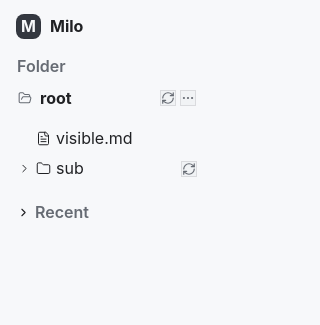
it: folder expansion and request lifetimes › loads only an expanded directory, retries locally and pages without replacing existing files
Click the button with class "file-sidebar__directory-toggle" at (104, 169), box [10, 154, 199, 184]
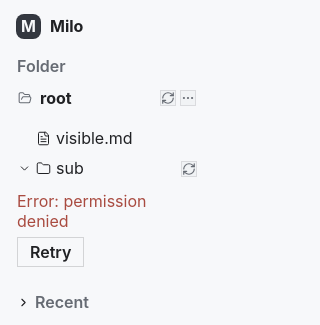
Check: the button "visible.md" is shown, box [10, 124, 199, 153]
Check: the message shows "permission denied", box [17, 191, 146, 231]
Click the button "Retry" at (51, 252), box [17, 237, 84, 267]
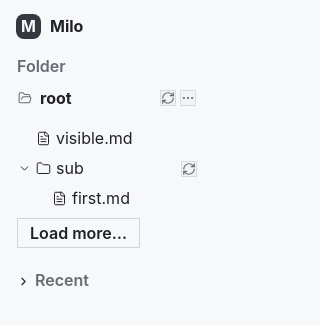
Check: the button "first.md" is shown, box [10, 184, 199, 213]
Click the button "Load more…" at (79, 233), box [17, 218, 140, 248]
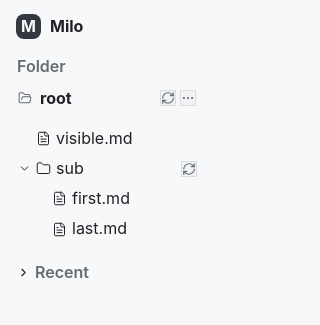
Check: the button "first.md" is shown, box [10, 184, 199, 213]
Check: the button "last.md" is shown, box [10, 214, 199, 244]
